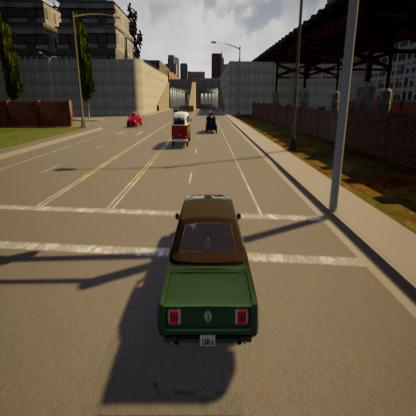Cars: (160, 198, 259, 348), (172, 110, 191, 146), (206, 108, 218, 136), (127, 111, 141, 129)
